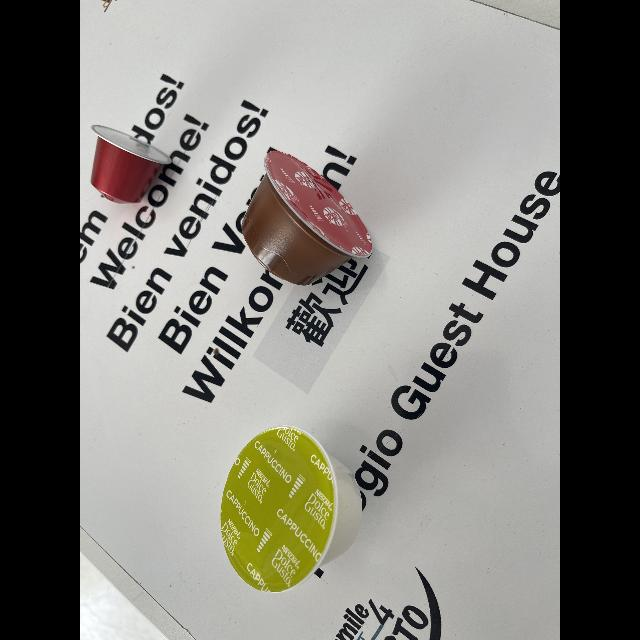intact_capsule: (215, 418, 369, 596), (240, 144, 378, 300), (80, 116, 184, 218)
